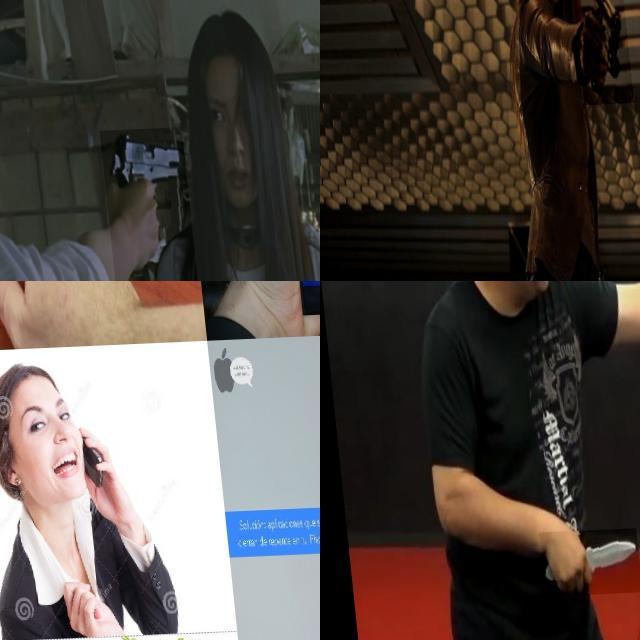-: (530, 531, 632, 598)
gun-knife-thesis - v11 Yolov5 augmented: (96, 130, 190, 281), (567, 0, 627, 107)
